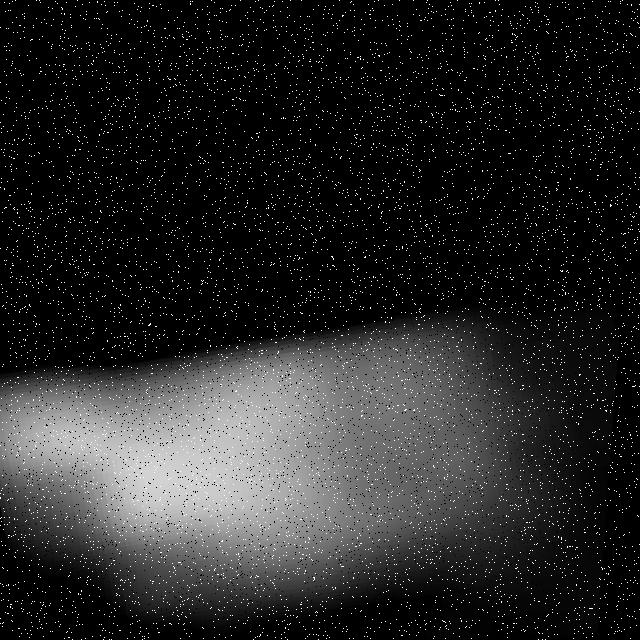person: (1, 230, 628, 640)
